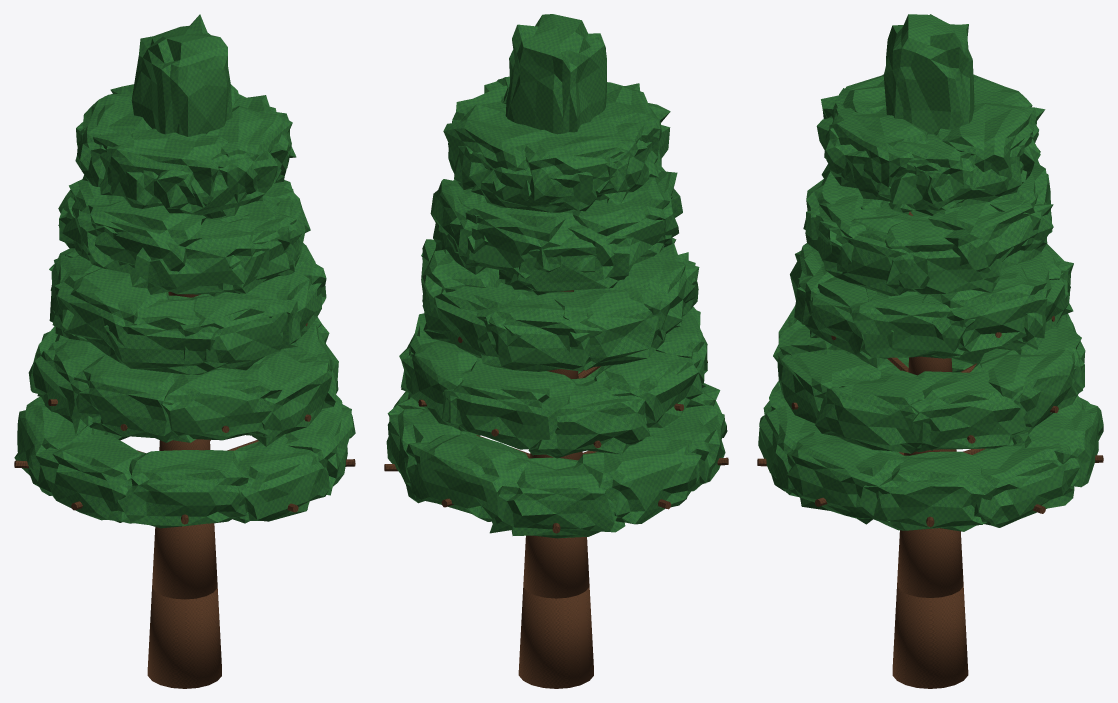
The model's file is pine_tree.glb.
The picture shows the model from 3 angles, left to right: view 1: azimuth 30°, elevation 25°; view 2: azimuth 150°, elevation 25°; view 3: azimuth 270°, elevation 25°; orthographic projection.
Visible parts, largest first — view 1: crown_00, crown_01, crown_02, crown_03, crown_04, crown_top, trunk_00, trunk_01, branches_00; view 2: crown_00, crown_01, crown_02, crown_04, crown_03, crown_top, trunk_00, trunk_01, branches_00; view 3: crown_00, crown_01, crown_03, crown_04, crown_02, crown_top, trunk_00, trunk_01, trunk_03.
Boxes of the visible parts, <box> form: crown_00: <box>14,395,355,528</box>; crown_01: <box>28,317,338,446</box>; crown_02: <box>49,243,326,374</box>; crown_03: <box>58,179,310,296</box>; crown_04: <box>75,84,296,215</box>; crown_top: <box>131,14,232,136</box>; trunk_00: <box>147,585,221,688</box>; trunk_01: <box>152,523,217,599</box>; branches_00: <box>14,439,355,524</box>; crown_00: <box>386,366,727,538</box>; crown_01: <box>399,290,707,458</box>; crown_02: <box>421,237,699,371</box>; crown_04: <box>443,76,670,212</box>; crown_03: <box>430,166,682,295</box>; crown_top: <box>505,14,606,134</box>; trunk_00: <box>518,584,593,688</box>; trunk_01: <box>523,535,589,598</box>; branches_00: <box>384,435,728,533</box>; crown_00: <box>758,357,1103,531</box>; crown_01: <box>773,304,1085,453</box>; crown_03: <box>803,159,1053,296</box>; crown_04: <box>816,74,1045,210</box>; crown_02: <box>790,210,1073,368</box>; crown_top: <box>883,14,974,133</box>; trunk_00: <box>892,582,968,688</box>; trunk_01: <box>897,528,963,597</box>; trunk_03: <box>908,356,952,375</box>.
Bounding box in the file's own units: 3.12 × 6.39 × 3.07.
Materials: 2 (2 with a texture image).
